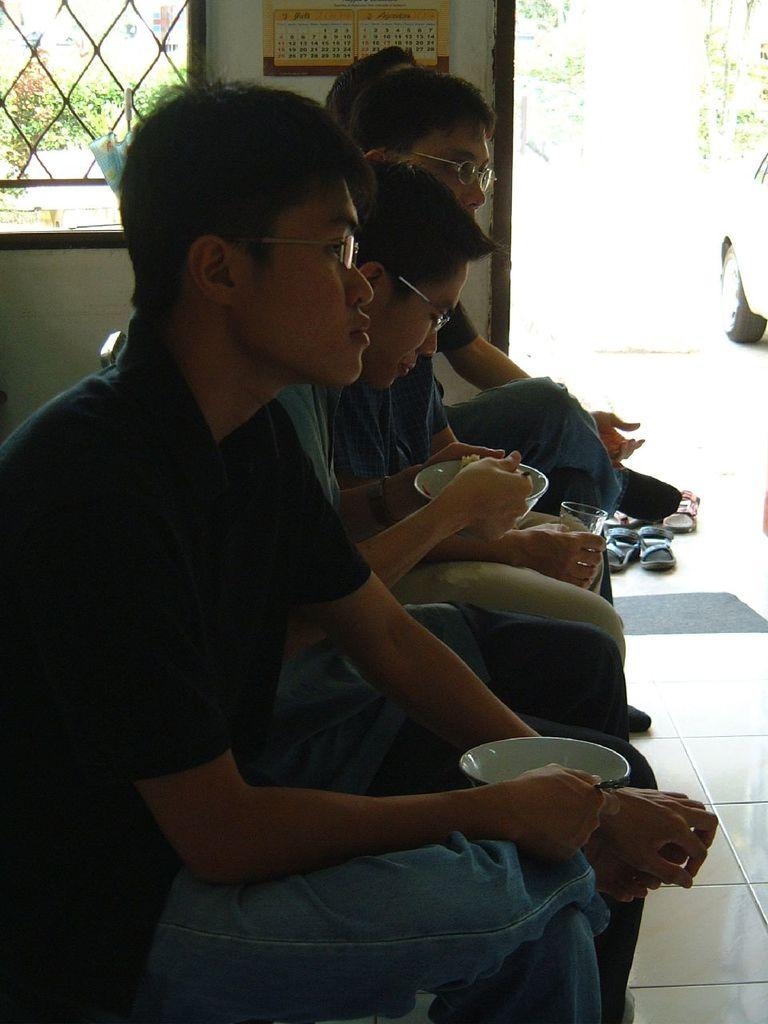Sem Máscara: (233, 174, 369, 387), (372, 257, 467, 387), (409, 114, 492, 221)
